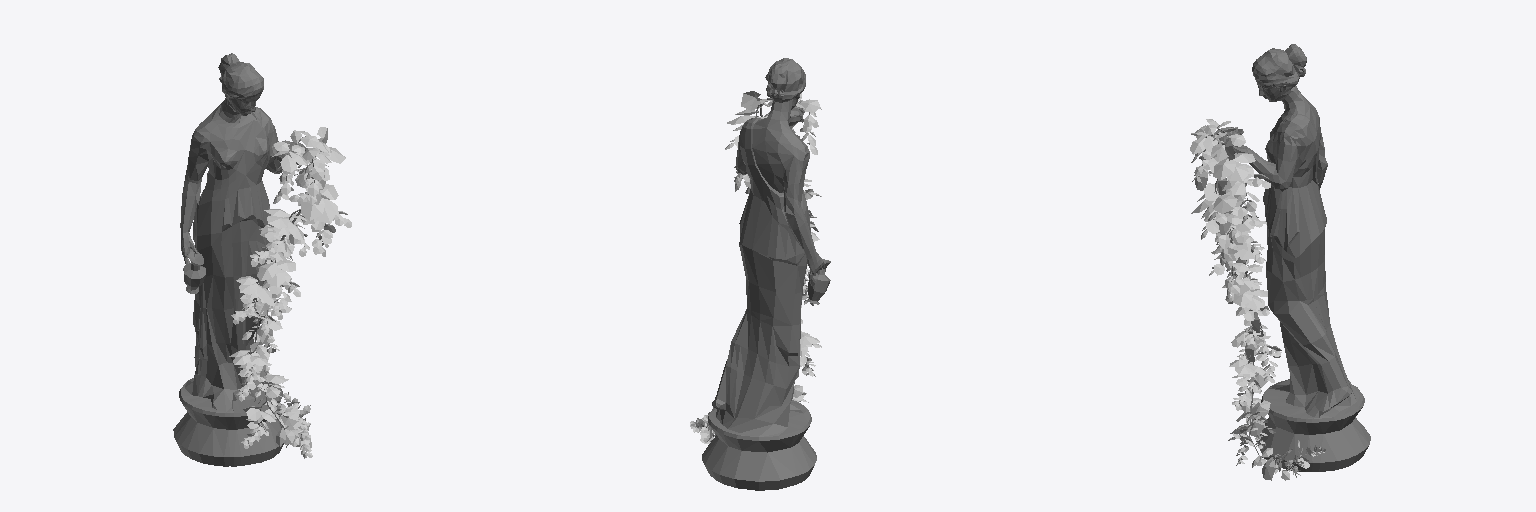
File: stat.obj
3 renders of one model, left to right at view 1: azimuth 30°, elevation 25°; view 2: azimuth 150°, elevation 25°; view 3: azimuth 270°, elevation 25°, orthographic.
Visible parts, largest first — view 1: statue; view 2: statue; view 3: statue.
Part boxes in pixels (x1,y1,x2,y2): statue: (173, 53, 351, 466); statue: (690, 58, 830, 490); statue: (1190, 44, 1370, 480).
Size of the model in its own units: 1.67 by 4.82 by 1.98.